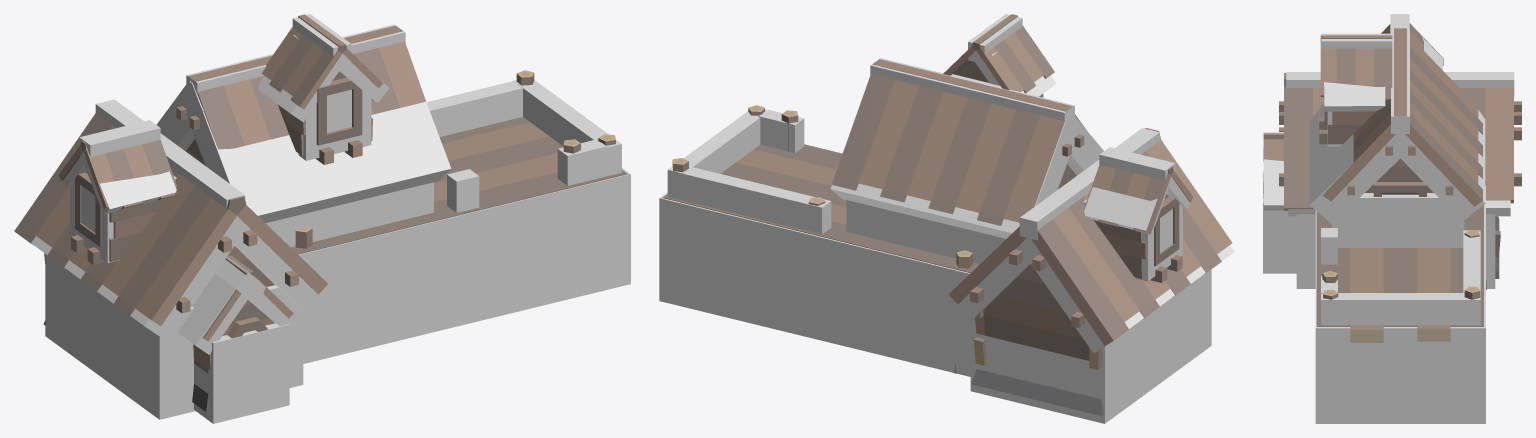
The model's file is wood_house_two_story.glb.
The picture shows the model from 3 angles, left to right: view 1: azimuth 30°, elevation 25°; view 2: azimuth 150°, elevation 25°; view 3: azimuth 270°, elevation 25°; orthographic projection. The views are drawn at different scales.
Visible parts, largest first — view 1: model_wood_house_two_story, c3_phy_mesh_box.004, c3_phy_mesh_convex, c3_phy_mesh_box.002, c3_phy_mesh_box.001, c3_phy_mesh_box.009, c3_phy_mesh_box.006, c3_phy_mesh_box.005, c3_phy_mesh_box, c3_phy_mesh_convex.002, c3_phy_mesh_box.003, c3_phy_mesh_convex.004 (+12 smaller); view 2: model_wood_house_two_story, c3_phy_mesh_box.004, c3_phy_mesh_box.002, c3_phy_mesh_box.006, c3_phy_mesh_box.009, c3_phy_mesh_convex.001, c3_phy_mesh_box.005, c3_phy_mesh_box, c3_phy_mesh_box.012, c3_phy_mesh_convex.002, c3_phy_mesh_convex.008, c3_phy_mesh_convex.003 (+6 smaller); view 3: model_wood_house_two_story, c3_phy_mesh_box.004, c3_phy_mesh_box.009, c3_phy_mesh_box.005, c3_phy_mesh_convex, c3_phy_mesh_convex.001, c3_phy_mesh_box.002, c3_phy_mesh_box.001, c3_phy_mesh_convex.007, c3_phy_mesh_box, c3_phy_mesh_convex.005, c3_phy_mesh_box.006 (+6 smaller).
Boxes of the visible parts, bbox=[...] form: model_wood_house_two_story: bbox=[14, 14, 627, 412]; c3_phy_mesh_box.004: bbox=[298, 168, 630, 363]; c3_phy_mesh_convex: bbox=[179, 82, 451, 223]; c3_phy_mesh_box.002: bbox=[45, 254, 303, 419]; c3_phy_mesh_box.001: bbox=[194, 323, 289, 423]; c3_phy_mesh_box.009: bbox=[266, 182, 433, 247]; c3_phy_mesh_box.006: bbox=[426, 81, 522, 136]; c3_phy_mesh_box.005: bbox=[513, 80, 621, 176]; c3_phy_mesh_box: bbox=[95, 99, 245, 217]; c3_phy_mesh_convex.002: bbox=[31, 217, 247, 341]; c3_phy_mesh_box.003: bbox=[298, 89, 371, 160]; c3_phy_mesh_convex.004: bbox=[177, 274, 247, 354]; model_wood_house_two_story: bbox=[662, 14, 1232, 415]; c3_phy_mesh_box.004: bbox=[659, 192, 970, 376]; c3_phy_mesh_box.002: bbox=[970, 269, 1211, 423]; c3_phy_mesh_box.006: bbox=[681, 167, 831, 234]; c3_phy_mesh_box.009: bbox=[846, 200, 1005, 264]; c3_phy_mesh_convex.001: bbox=[830, 112, 1081, 238]; c3_phy_mesh_box.005: bbox=[667, 110, 765, 200]; c3_phy_mesh_box: bbox=[1019, 128, 1159, 240]; c3_phy_mesh_box.012: bbox=[870, 58, 1074, 122]; c3_phy_mesh_convex.002: bbox=[1019, 238, 1234, 353]; c3_phy_mesh_convex.008: bbox=[1084, 187, 1168, 235]; c3_phy_mesh_convex.003: bbox=[946, 238, 1040, 322]; model_wood_house_two_story: bbox=[1263, 23, 1521, 342]; c3_phy_mesh_box.004: bbox=[1315, 186, 1485, 423]; c3_phy_mesh_box.009: bbox=[1331, 193, 1464, 247]; c3_phy_mesh_box.005: bbox=[1321, 293, 1480, 325]; c3_phy_mesh_convex: bbox=[1309, 103, 1414, 223]; c3_phy_mesh_convex.001: bbox=[1387, 110, 1485, 221]; c3_phy_mesh_box.002: bbox=[1296, 214, 1495, 288]; c3_phy_mesh_box.001: bbox=[1263, 171, 1296, 273]; c3_phy_mesh_convex.007: bbox=[1324, 82, 1385, 111]; c3_phy_mesh_box: bbox=[1286, 72, 1514, 96]; c3_phy_mesh_convex.005: bbox=[1263, 132, 1283, 210]; c3_phy_mesh_box.006: bbox=[1463, 230, 1480, 292].
Bounding box in the file's own units: 12.45 × 7.39 × 6.31.
Materials: 1 (1 with a texture image).
